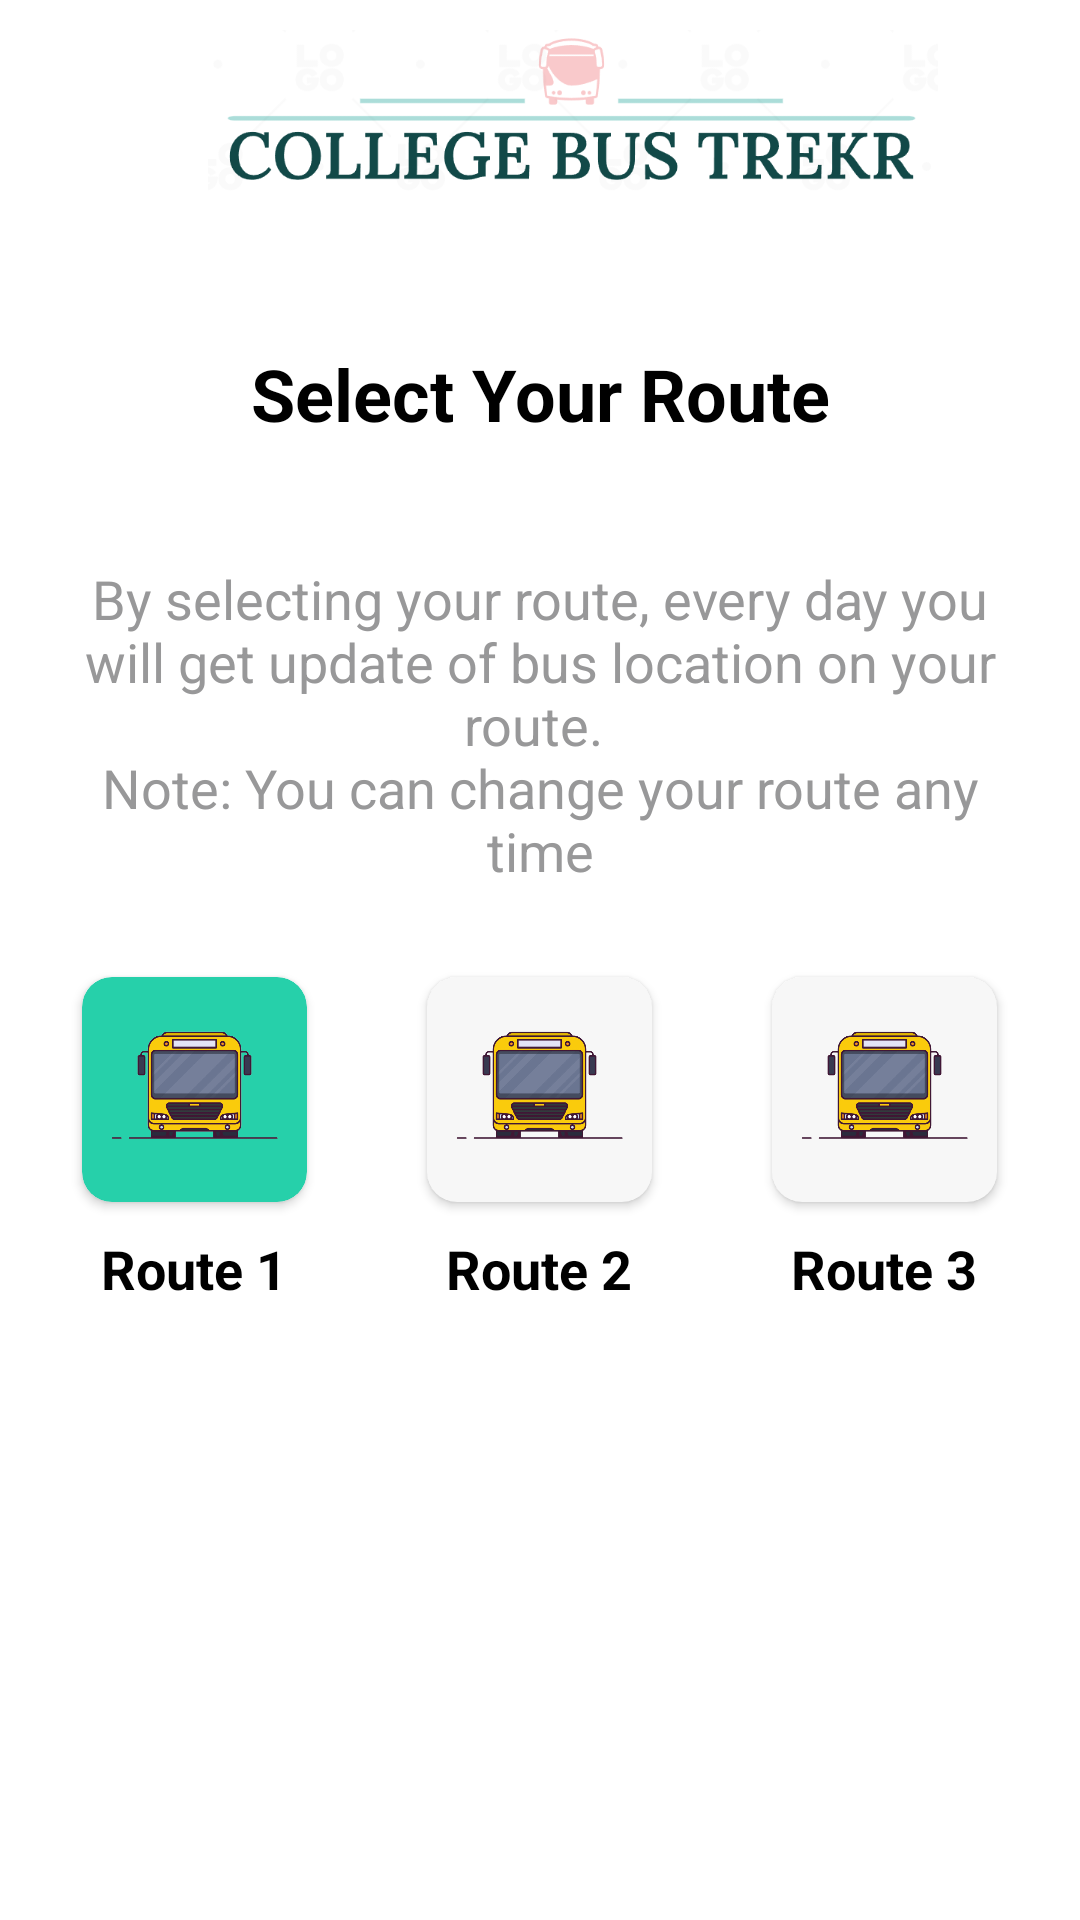

Where to tap for icons on this 1080px×1920px app screen, as (x=x, y=y):
routeselectionbus: (x=194, y=1089), (x=540, y=1117), (x=888, y=1117)
